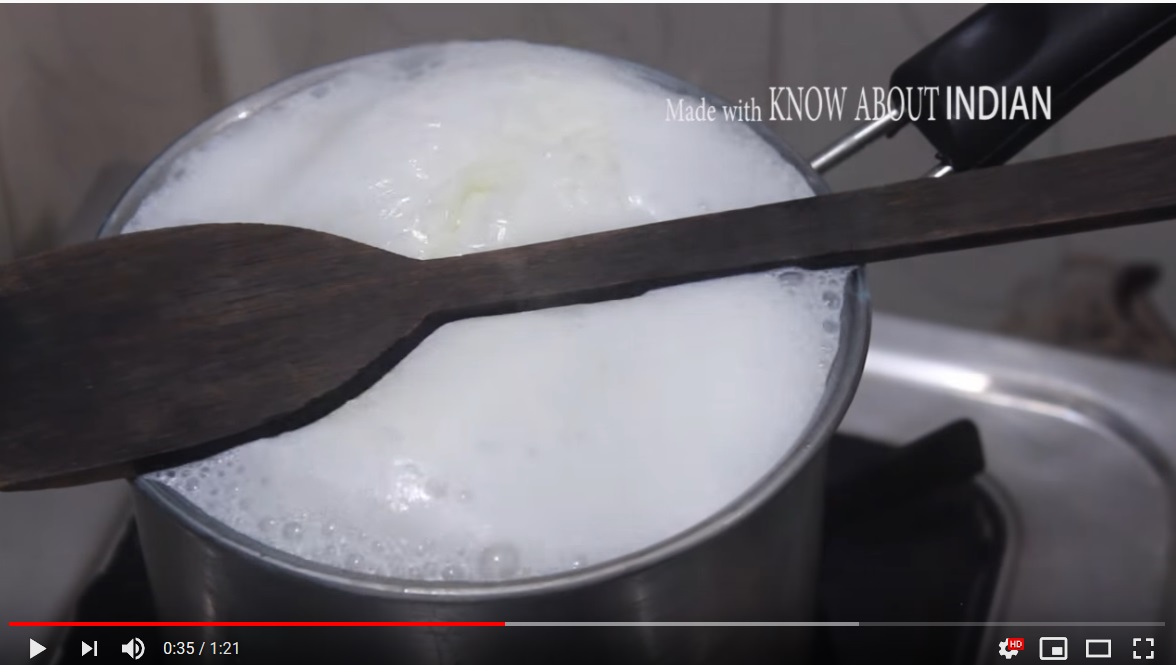Boiled: (90, 38, 871, 597)
